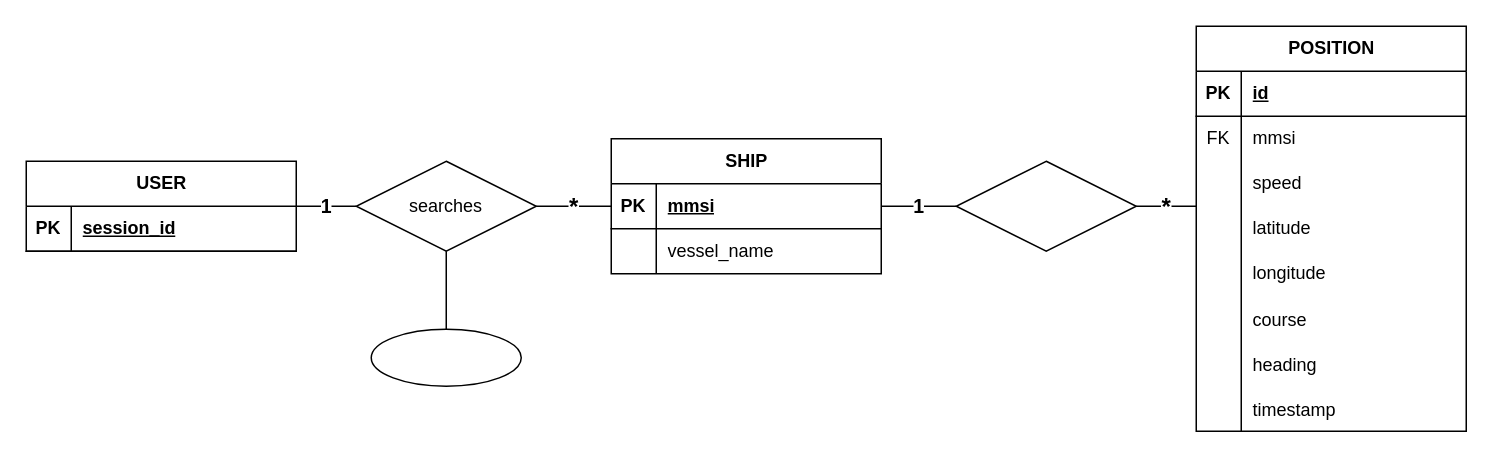
This 1493x458 diagram has some shape labels left out. The centre of each missing label's shape, as x and y in pixels:
date_filter: point (445, 357)
has: point (1045, 205)
